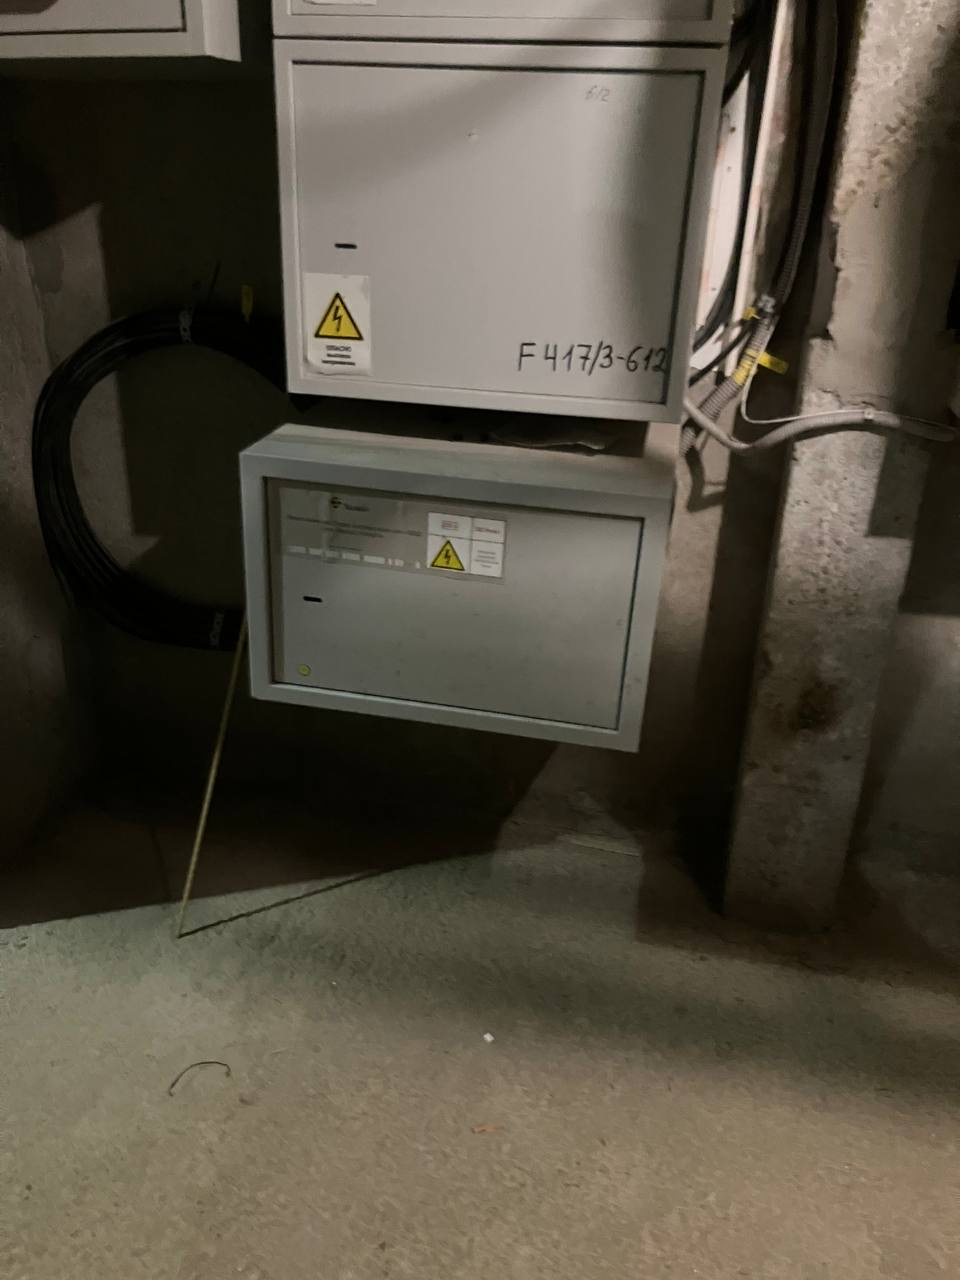shta-7m: (224, 396, 680, 765)
